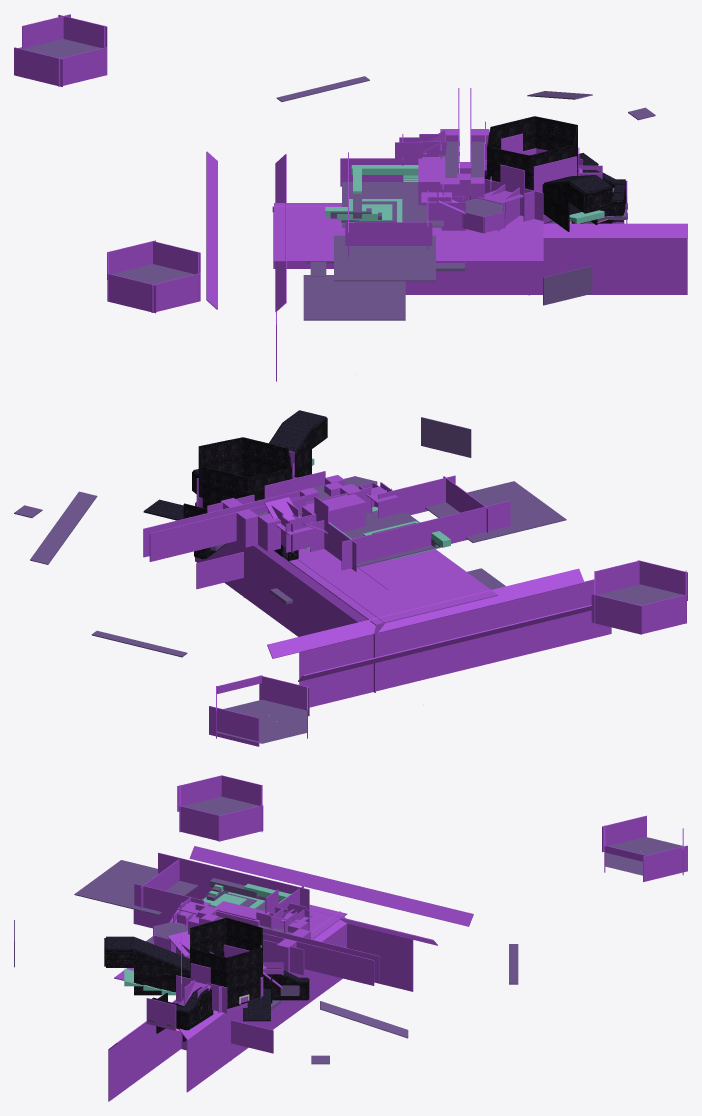
Rendered from nivel1.fbx.
3 renders of one model, top to bottom at view 1: azimuth 30°, elevation 25°; view 2: azimuth 150°, elevation 25°; view 3: azimuth 270°, elevation 25°, orthographic. The views are drawn at different scales.
Visible parts, largest first — view 1: levelexport; view 2: levelexport, Floor 30x30.004; view 3: levelexport, Wall 20x20.032, Wall Diagonal Large Double.006.
Boxes of the visible parts, x1,y1,x2,y2 form: levelexport: [14, 14, 687, 381]; levelexport: [14, 417, 687, 746]; Floor 30x30.004: [269, 422, 310, 452]; levelexport: [14, 775, 687, 1101]; Wall 20x20.032: [106, 949, 133, 967]; Wall Diagonal Large Double.006: [213, 954, 240, 975].
Bounding box in the file's own units: 67643 × 21349 × 71995.
